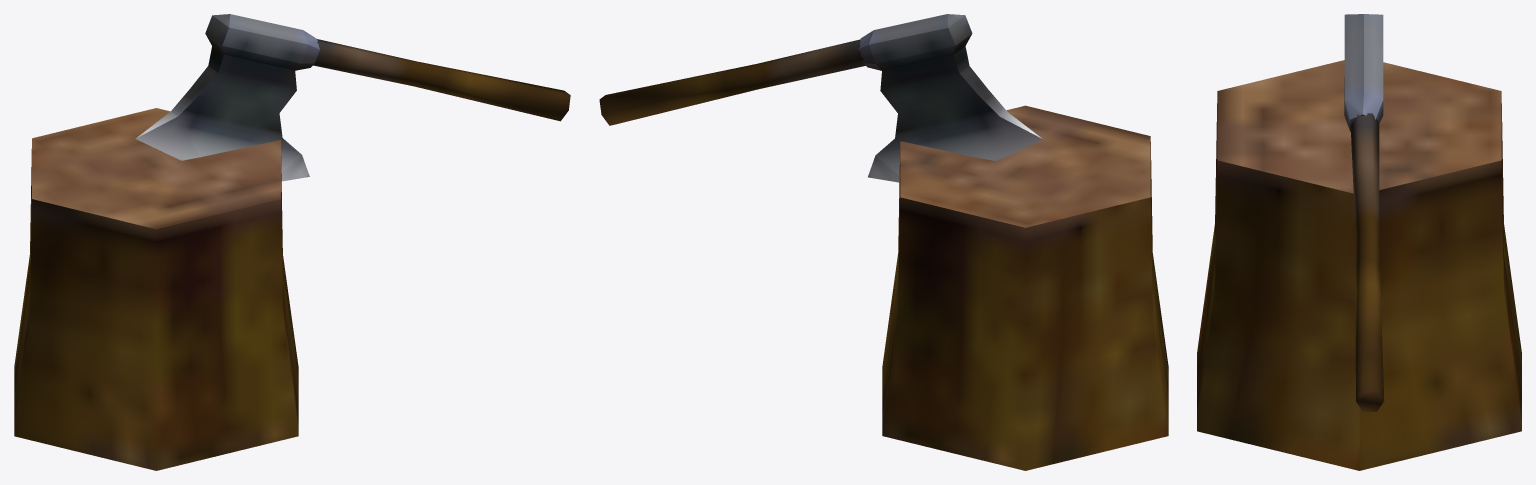
File: b_general_obj_27.glb
3 views of the same model, side by side, from view 1: azimuth 30°, elevation 25°; view 2: azimuth 150°, elevation 25°; view 3: azimuth 270°, elevation 25° (orthographic). The views are drawn at different scales.
Visible parts, largest first — view 1: Sphere01; view 2: Sphere01; view 3: Sphere01.
Boxes of the visible parts, x1,y1,x2,y2 form: Sphere01: (14, 14, 570, 470); Sphere01: (599, 14, 1168, 470); Sphere01: (1197, 14, 1521, 470).
Size of the model in its own units: 1.29 by 0.8143 by 0.5706.
Materials: 1 (1 with a texture image).
